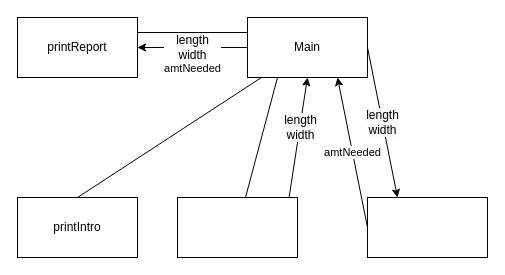
Image size: 505x275. Some labels were removed from this diagram. Here are the shapes that lost their labels. From the top down, the centre of each, then its label:
At [237,227]: "getDimensions".
At [427,227]: "computeAmount".
